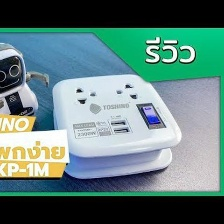three_eye_plug: (44, 64, 183, 183)
